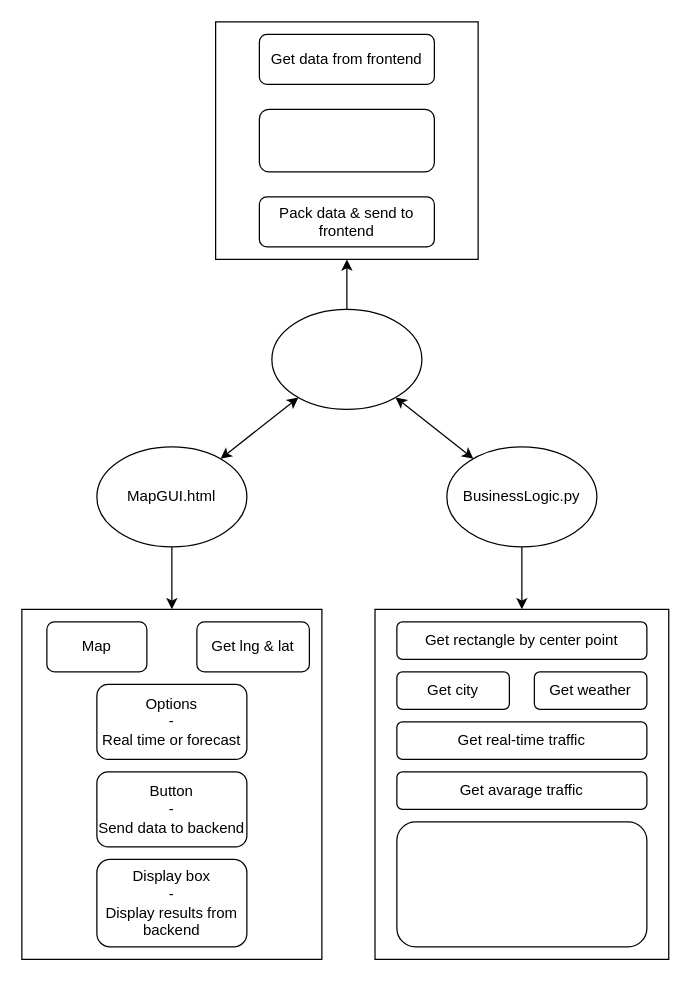
Some shapes in this 691 by 981 pixel diagram are drawn without their labels. The centre of each missing label's shape, as x and y in pixels:
BackEnd.py: pixel 346 358
Call functions from logic module: pixel 346 140
Load model Load data Data standardize Predict: pixel 521 884
